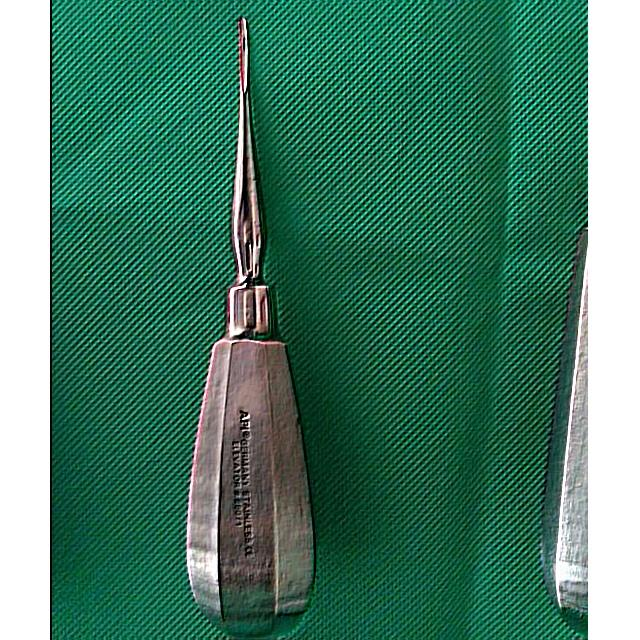botador: (186, 18, 317, 636)
